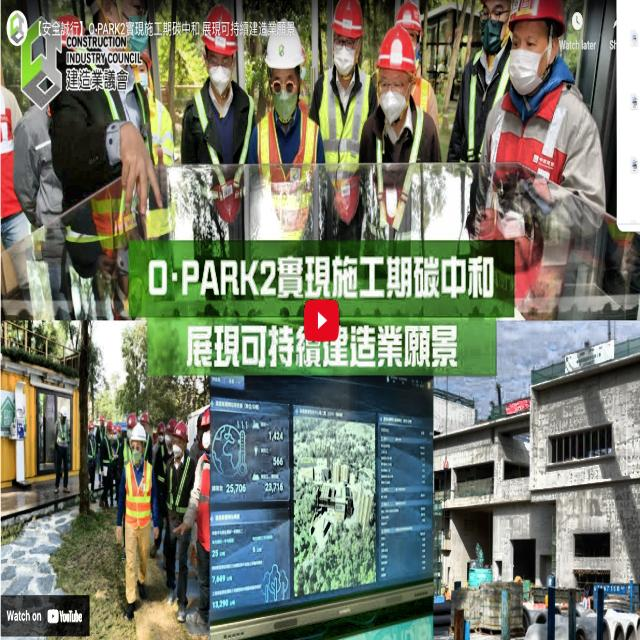safety_helmet: (504, 3, 567, 101), (262, 18, 308, 76), (198, 4, 241, 62), (374, 23, 418, 79), (328, 1, 366, 45)
safety_jacket: (253, 106, 321, 241), (309, 64, 375, 192), (121, 454, 155, 535)
